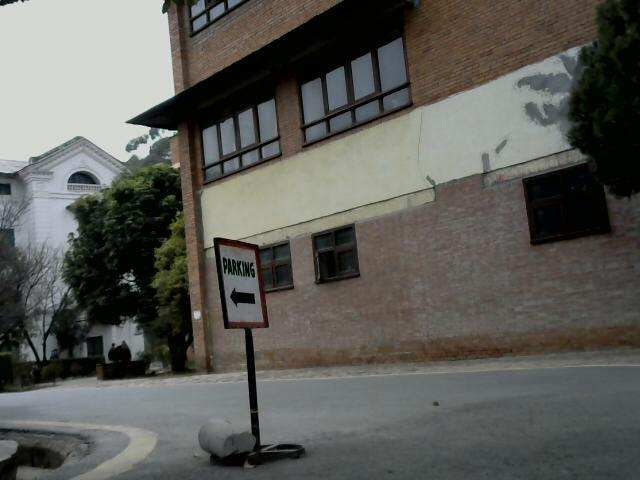Building: (158, 0, 640, 376)
Road: (0, 384, 640, 480)
Traffic sign: (206, 231, 309, 480)
Tree: (49, 162, 189, 363), (556, 0, 640, 204), (0, 199, 63, 393)
